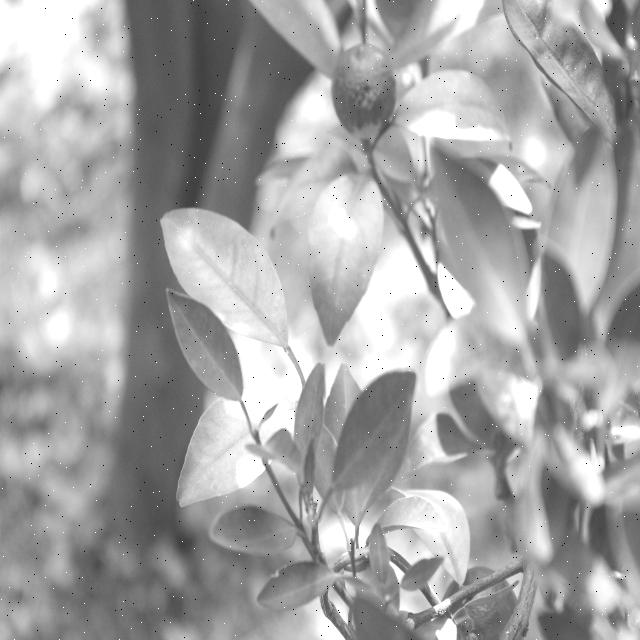greening: (160, 199, 288, 347), (303, 167, 383, 341), (186, 393, 262, 510)
